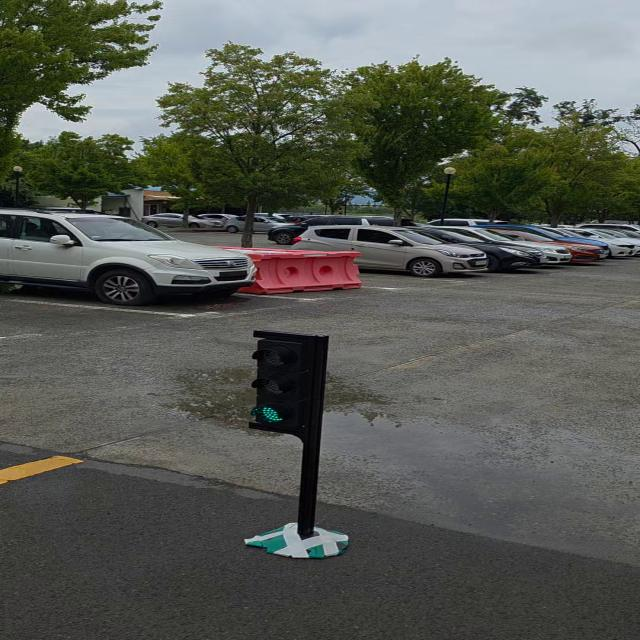green: (244, 328, 330, 440)
